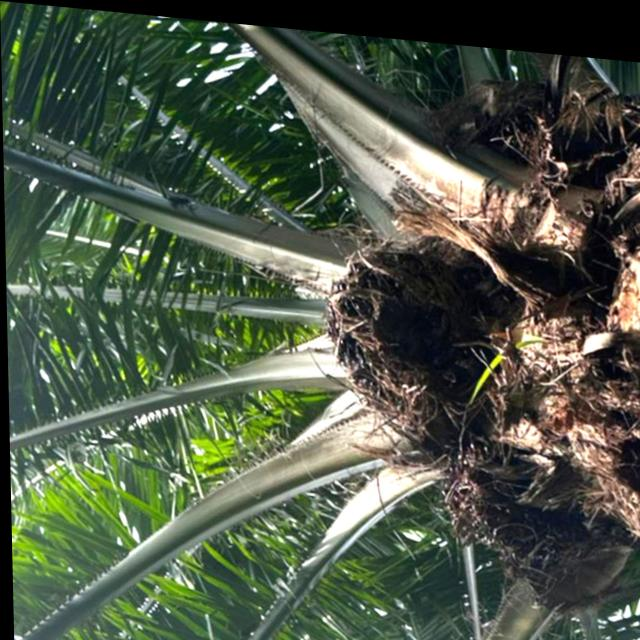unripe: (302, 212, 516, 439)
